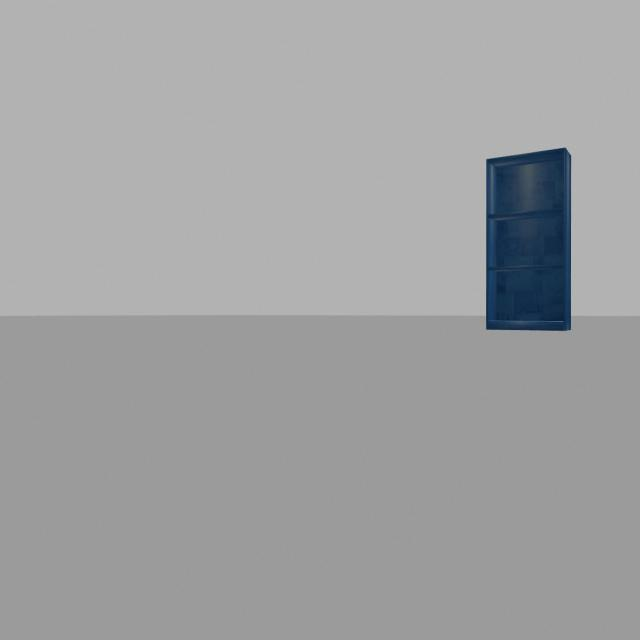shelf: (483, 138, 586, 347)
